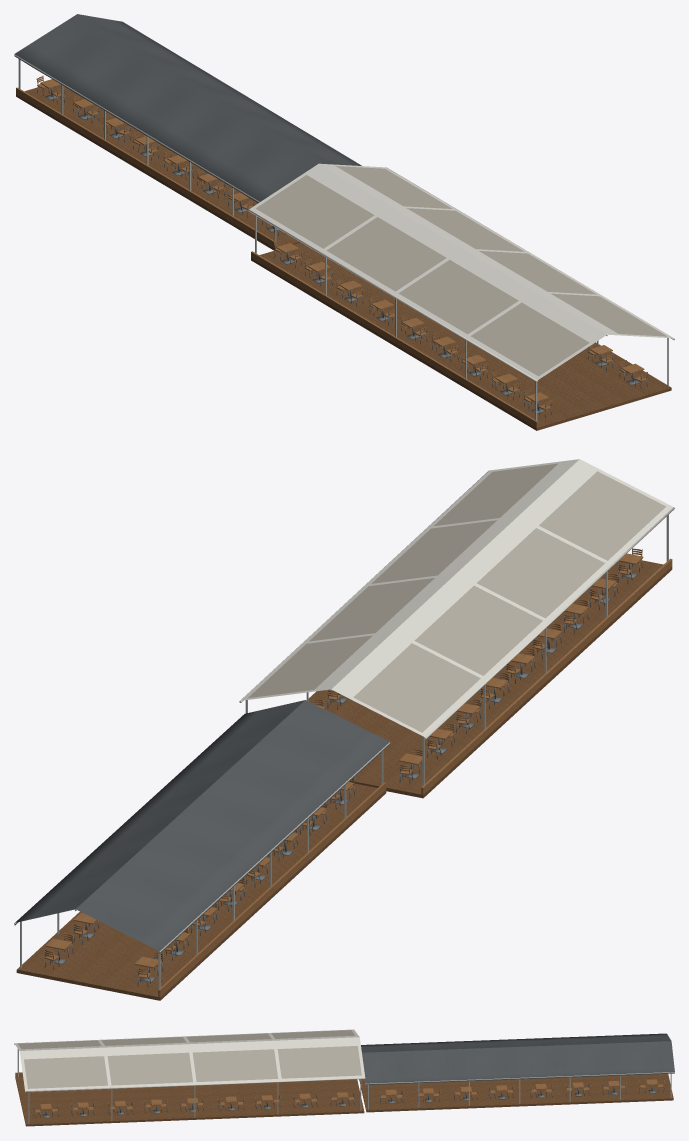
3 renders of one model, top to bottom at view 1: azimuth 30°, elevation 25°; view 2: azimuth 150°, elevation 25°; view 3: azimuth 270°, elevation 25°, orthographic. The views are drawn at different scales.
Parts seen in each view (by area): view 1: Roof infill, Charcoal, Deck, Pale roof trim, Teak, Metal, Canopy frame; view 2: Charcoal, Roof infill, Deck, Pale roof trim, Teak, Metal, Canopy frame; view 3: Deck, Charcoal, Roof infill, Pale roof trim, Teak, Metal, Canopy frame.
Boxes of the visible parts, box(x1,y1,x2,y2) form: Roof infill: box(255, 166, 667, 376); Charcoal: box(14, 14, 361, 202); Deck: box(16, 85, 671, 430); Pale roof trim: box(248, 163, 674, 381); Teak: box(16, 76, 647, 427); Metal: box(36, 78, 647, 417); Canopy frame: box(14, 54, 668, 420); Charcoal: box(14, 700, 389, 953); Roof infill: box(248, 463, 666, 732); Deck: box(16, 560, 672, 1000); Pale roof trim: box(239, 459, 674, 739); Teak: box(44, 548, 672, 997); Metal: box(44, 548, 642, 987); Canopy frame: box(14, 515, 668, 989); Deck: box(15, 1073, 673, 1126); Charcoal: box(361, 1033, 674, 1084); Roof infill: box(18, 1030, 361, 1088); Pale roof trim: box(14, 1029, 365, 1092); Teak: box(15, 1072, 664, 1112); Metal: box(33, 1080, 664, 1117); Canopy frame: box(17, 1049, 674, 1123).
Bounding box in the file's own units: 10.73 × 4.01 × 45.99.
Materials: 7 (3 with a texture image).
